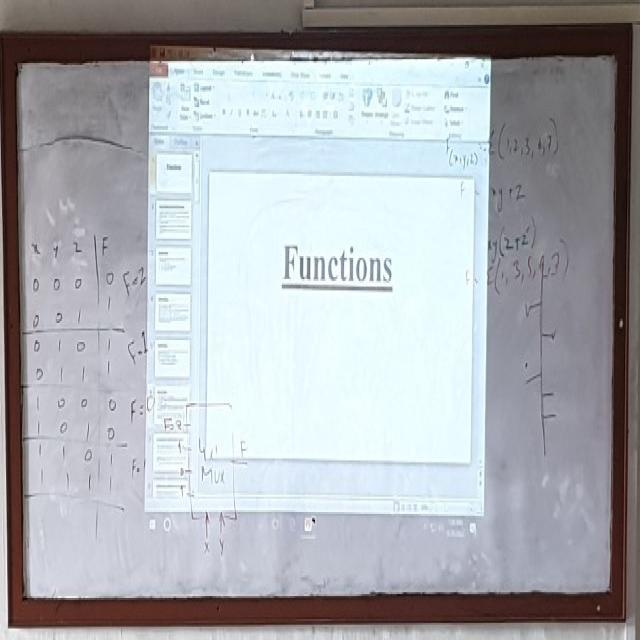Slide: (146, 43, 493, 547)
White-board: (10, 40, 624, 615)
